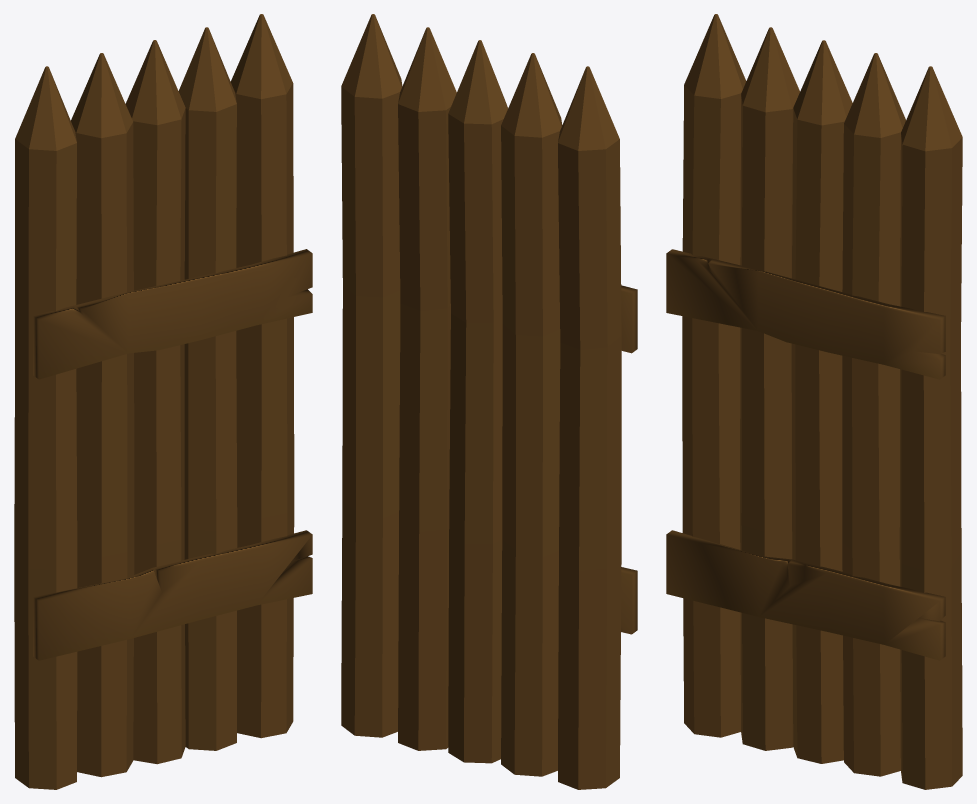
Rendered from PoteauxPlancheBois.fbx.
3 views of the same model, side by side, from view 1: azimuth 30°, elevation 25°; view 2: azimuth 150°, elevation 25°; view 3: azimuth 330°, elevation 25° (orthographic).
Visible parts, largest first — view 1: PoteauxPlanche; view 2: PoteauxPlanche; view 3: PoteauxPlanche.
Boxes of the visible parts, x1,y1,x2,y2 form: PoteauxPlanche: [14, 14, 312, 789]; PoteauxPlanche: [341, 14, 637, 789]; PoteauxPlanche: [666, 14, 962, 789].
Bounding box in the file's own units: 245 × 607 × 58.25.
